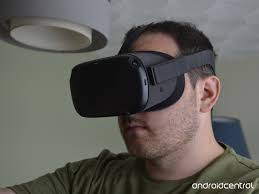oculus: (66, 52, 189, 120)
